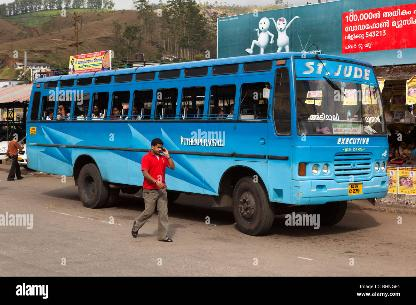bus: (21, 49, 394, 234)
